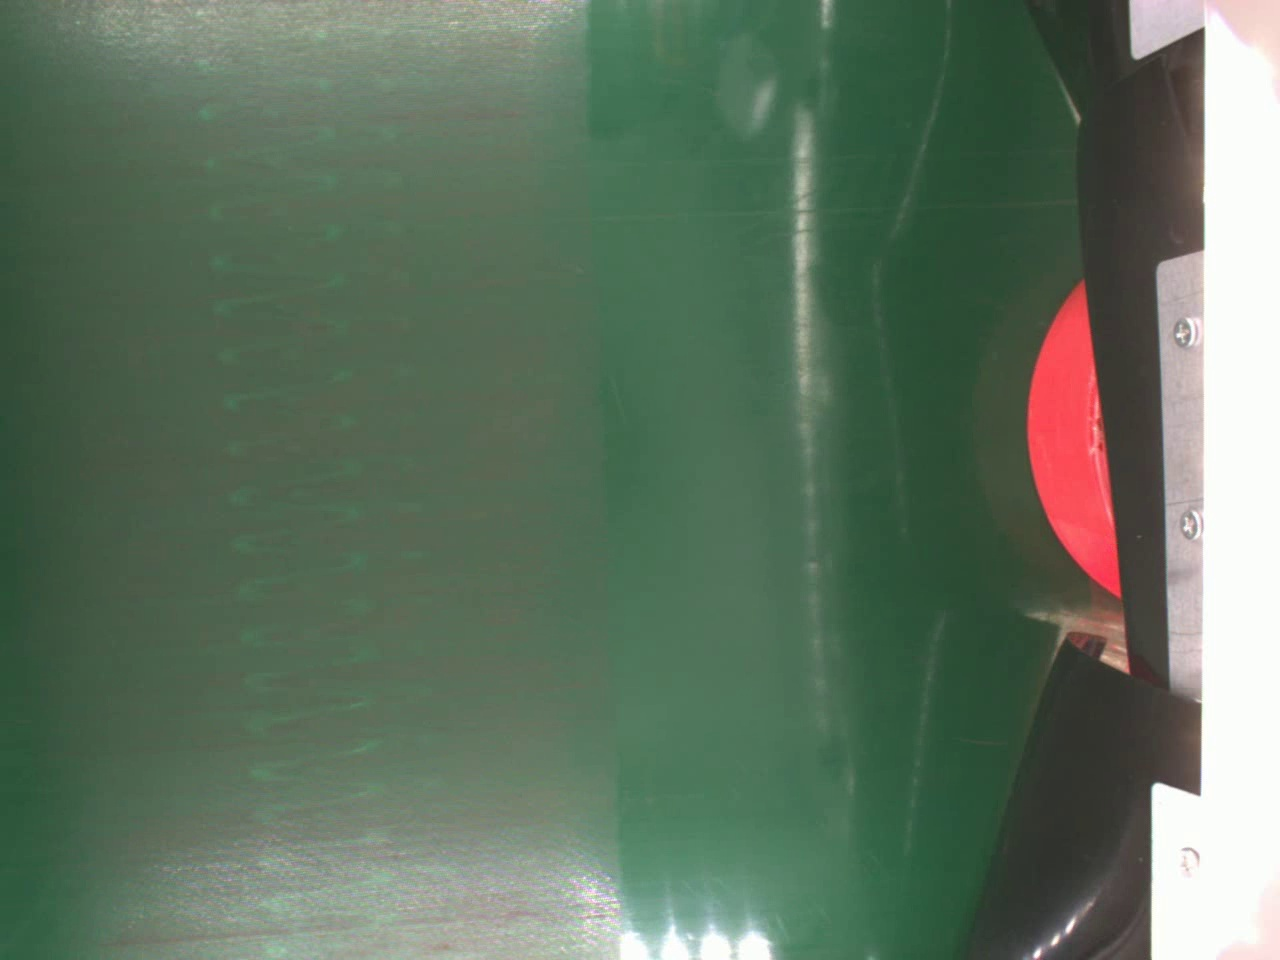red: (1027, 279, 1121, 601)
